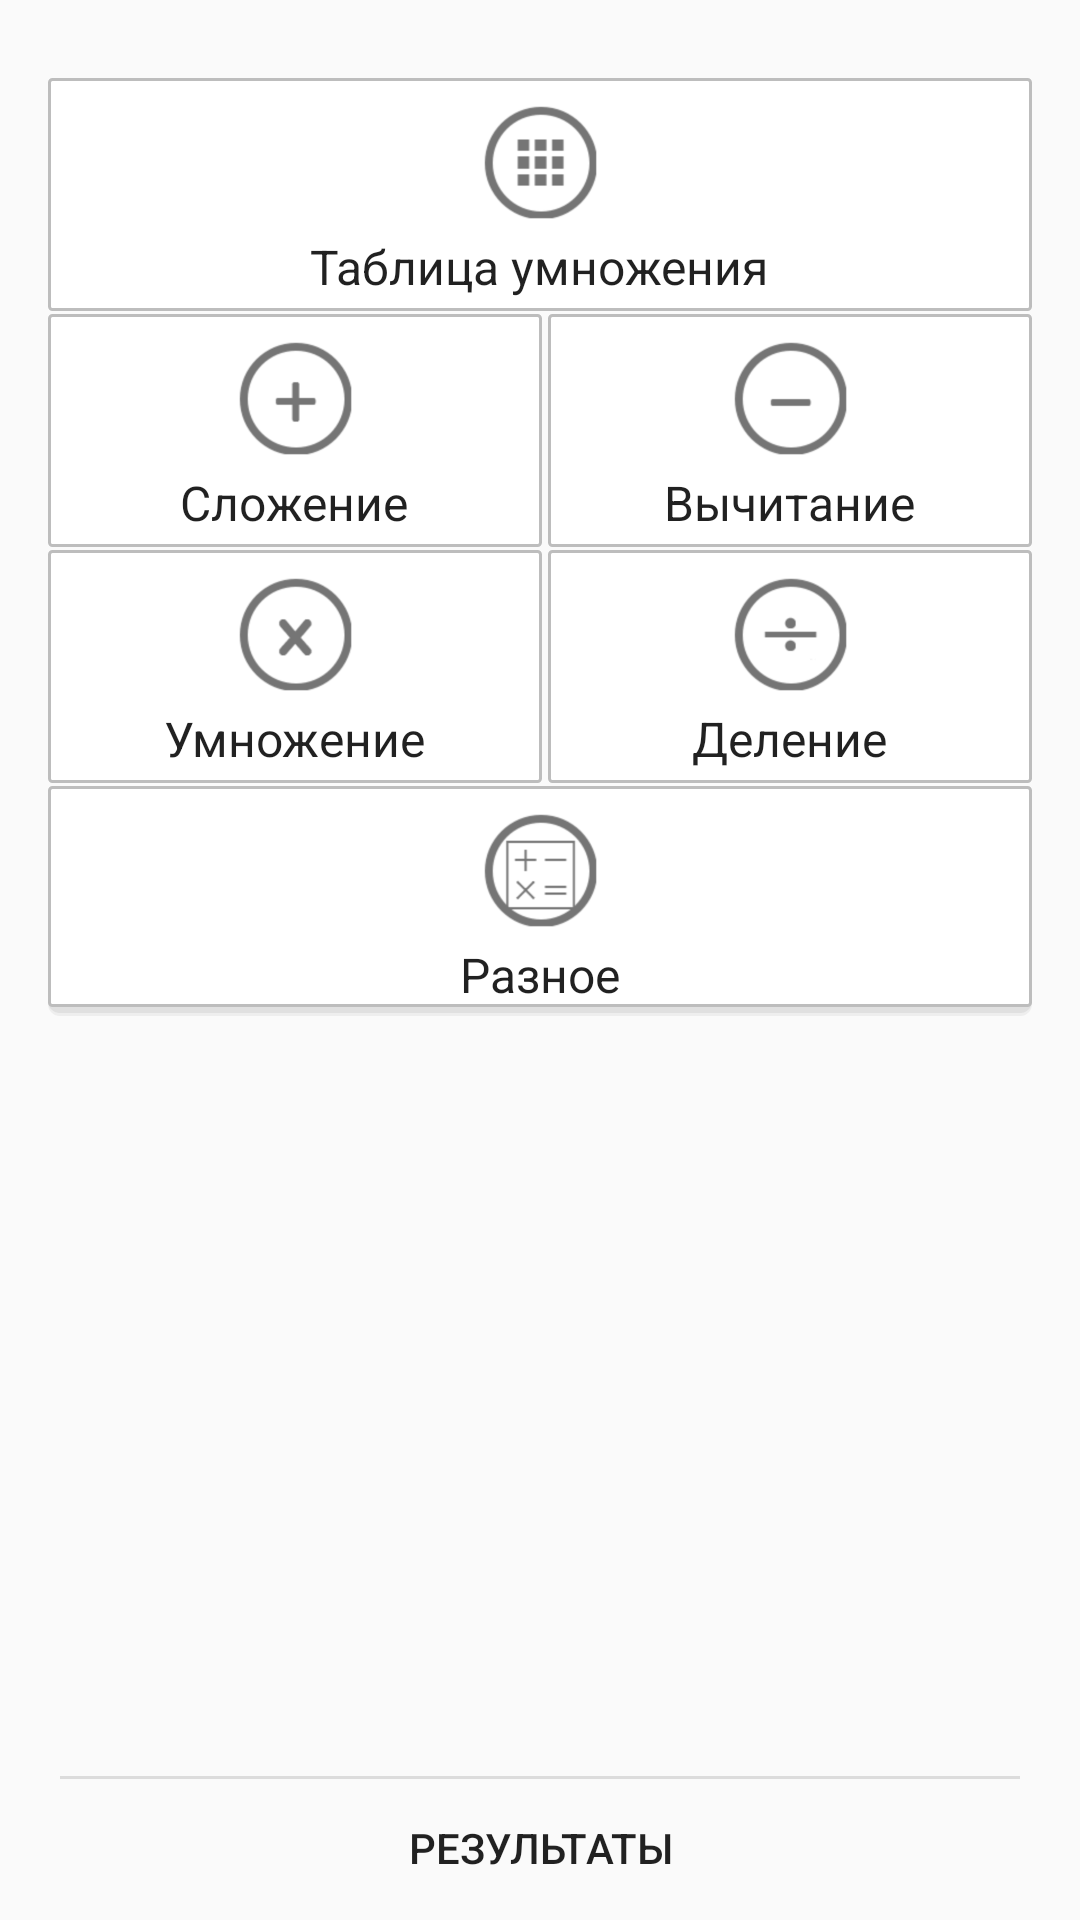

Screen size 1080×1920. Icon name, then its box in pixels as (x1, y1, x2, y2):
table: (484, 106, 597, 219)
